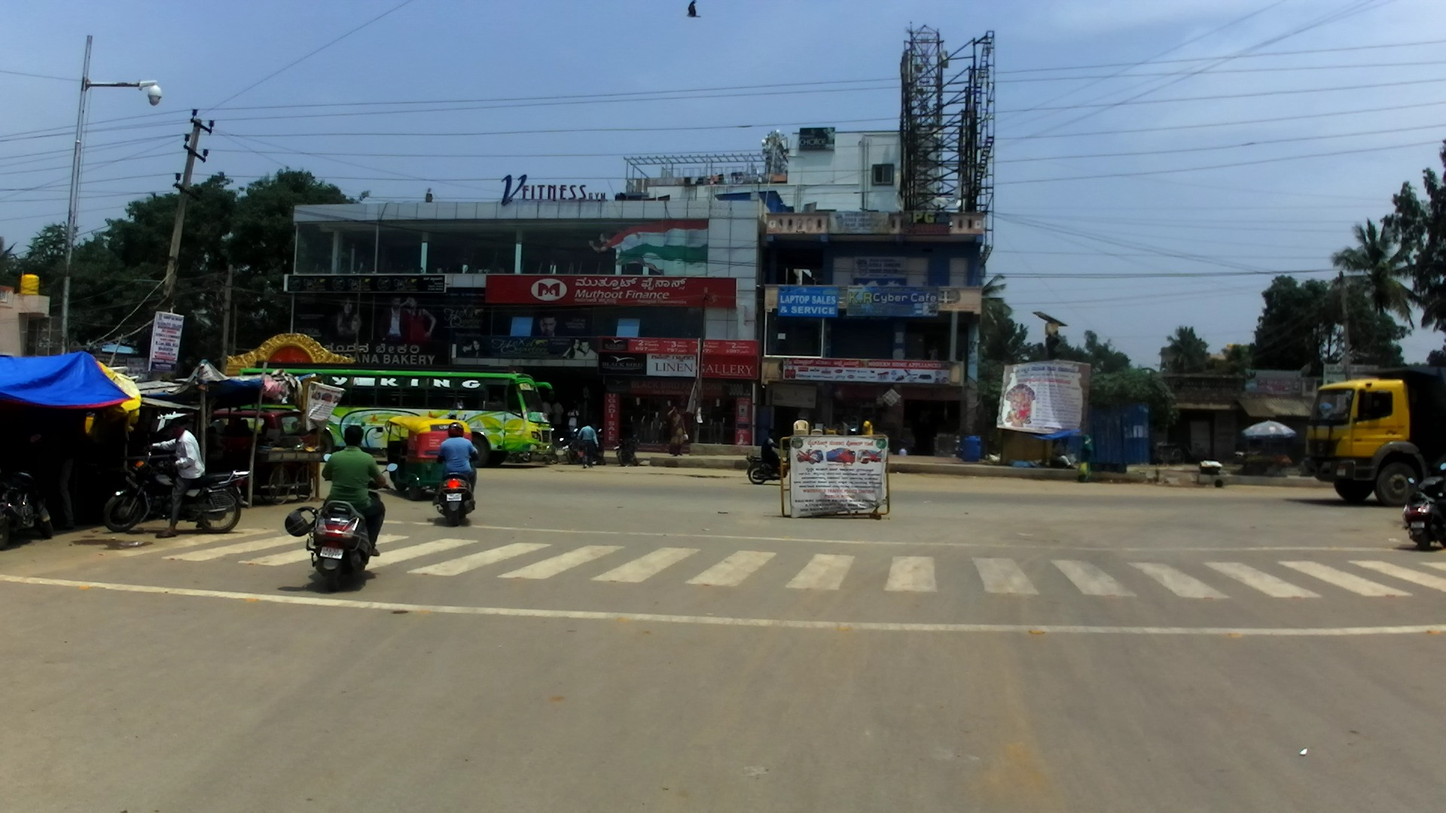animal: (686, 2, 700, 20)
autorickshaw: (385, 416, 474, 501)
bus: (239, 361, 557, 469)
car: (206, 408, 319, 481), (151, 412, 187, 436)
motorcycle: (285, 451, 399, 592), (101, 436, 251, 534), (1, 455, 50, 554), (1403, 464, 1446, 550), (432, 453, 477, 528), (746, 441, 794, 486), (612, 432, 641, 467), (557, 428, 583, 464), (584, 428, 606, 467), (543, 427, 560, 465)
person: (43, 412, 79, 530), (664, 406, 688, 458), (224, 416, 242, 474), (578, 421, 599, 469), (1078, 433, 1095, 484), (204, 426, 220, 478), (551, 398, 564, 439), (239, 419, 252, 458), (565, 403, 578, 440), (1052, 437, 1067, 467), (862, 412, 876, 441), (541, 398, 552, 434)
rider: (320, 424, 386, 556), (148, 417, 206, 538), (435, 422, 478, 499), (760, 428, 784, 475)
truck: (1304, 364, 1446, 508)
vehicle fallback: (252, 440, 323, 503), (1155, 443, 1185, 464)
